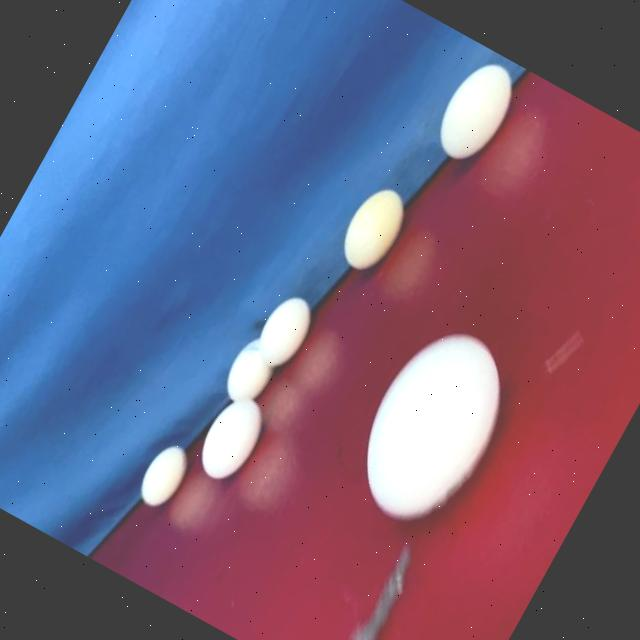ping-pong-ball: (331, 306, 537, 546), (420, 44, 531, 176), (183, 380, 282, 498), (326, 172, 424, 288), (242, 282, 328, 384), (128, 434, 201, 520)
